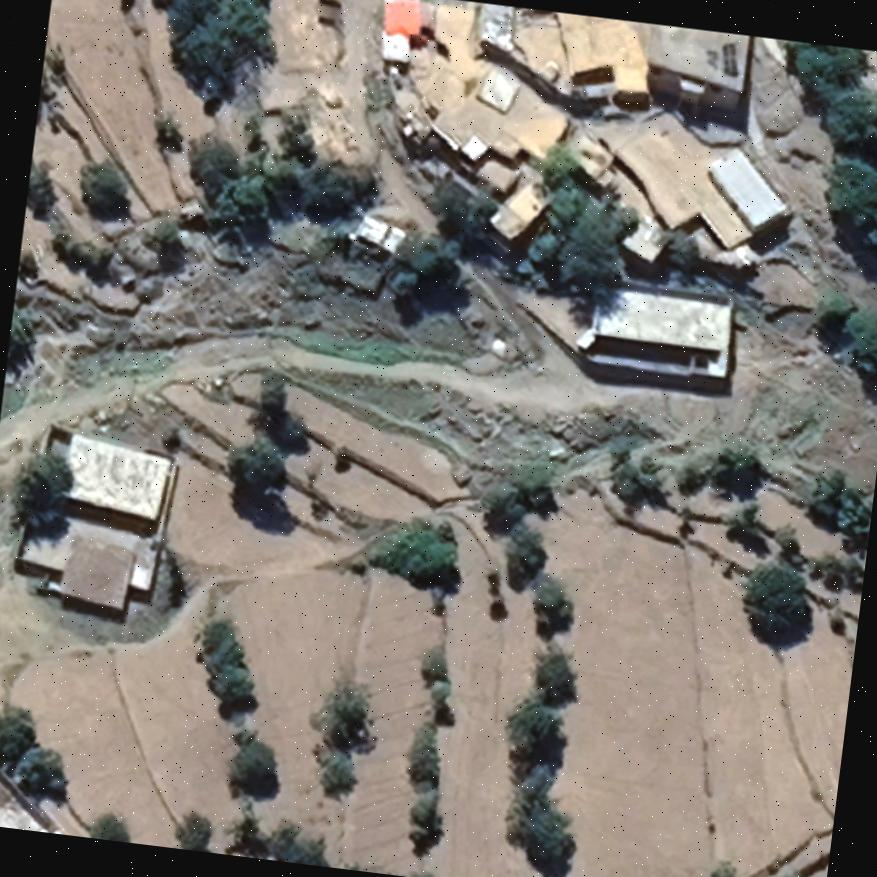Solarpanel: (718, 40, 742, 78)
